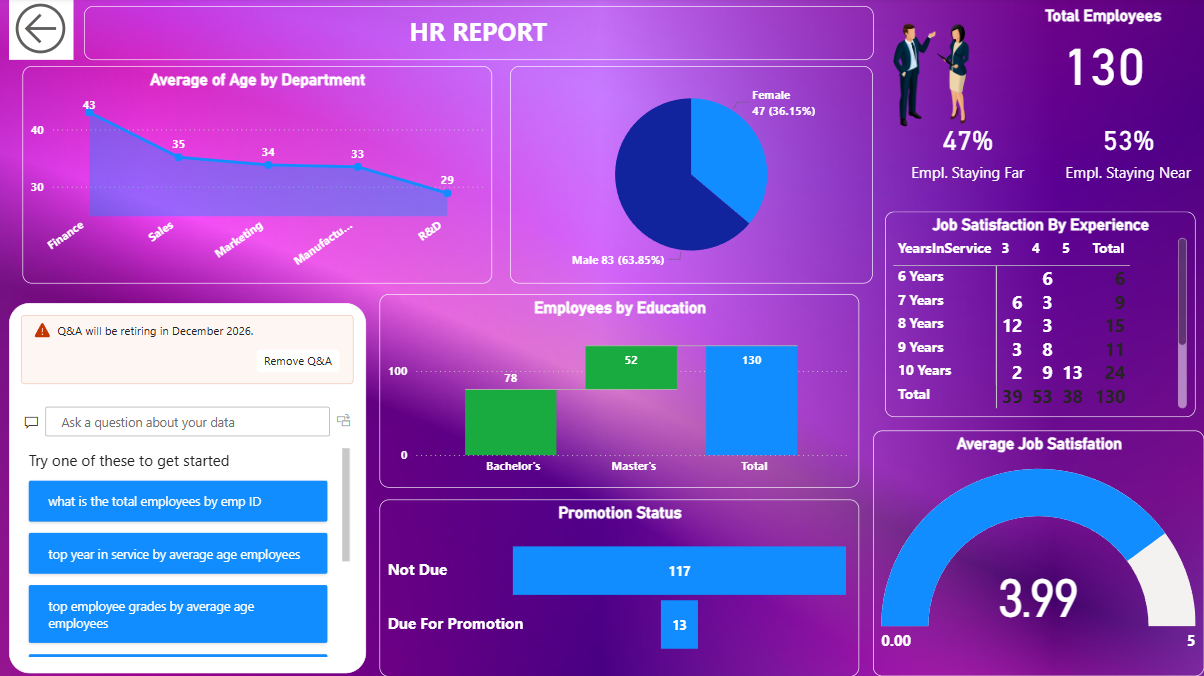

What the dashboard file says about the page in this screenshot:
{"tool":"powerbi","page":{"name":"HR","canvas":[1280,720],"ordinal":1},"visuals":[{"type":"textbox","box":[92,10,837,57],"z":0},{"type":"actionButton","box":[12.7,0,68.4,66.8],"z":1000},{"type":"areaChart","fields":{"Category":["HR.Department"],"Y":["Avg(HR.Age)"]},"box":[27,73.2,497.9,230.6],"z":2000},{"type":"pieChart","fields":{"Series":["HR.Gender"],"Y":["HR.TotalEmployees"]},"box":[544,73.2,384.9,230.6],"z":3000},{"type":"image","box":[928.9,9.5,128.8,146.3],"z":4000},{"type":"card","title":"Total Employees","fields":{"Values":["HR.TotalEmployees"]},"box":[1075.3,9.5,195.6,100.2],"z":5000},{"type":"card","fields":{"Values":["HR.%DistanceFar"]},"box":[951.2,90.7,155.9,146.3],"z":6000},{"type":"card","fields":{"Values":["HR.%DistanceNear"]},"box":[1118.2,90.7,162.2,146.3],"z":7000},{"type":"pivotTable","title":"Job Satisfaction By Experience","fields":{"Rows":["HR.YearsInService"],"Columns":["HR.JobSatisfation"],"Values":["HR.TotalEmployees"]},"box":[941.6,227.5,329.3,217.9],"z":8000},{"type":"gauge","title":"Average Job Satisfation","fields":{"Y":["HR.AverageJobSatisfaction"],"MaxValue":["Max(HR.JobSatisfation)"]},"box":[928.9,459.7,351.5,260.9],"z":9000},{"type":"waterfallChart","title":"Employees by Education","fields":{"Category":["HR.Education"],"Y":["HR.TotalEmployees"]},"box":[405.6,314.9,509,205.2],"z":10000},{"type":"funnel","title":"Promotion Status","fields":{"Category":["HR.PromotionStatus"],"Y":["HR.TotalEmployees"]},"box":[405.6,532.9,509,187.7],"z":11000},{"type":"qnaVisual","box":[12.7,324.5,378.6,392.9],"z":12000}]}

Visuals, with their boxes in screenshot pixels (x1, y1, x2, y2), scaled from the page's 1280x720 canvas onto the 1204x676 screenshot:
textbox: bbox=[87, 9, 874, 63]
actionButton: bbox=[12, 0, 76, 63]
areaChart - HR.Department x Avg(HR.Age): bbox=[25, 69, 494, 285]
pieChart - HR.Gender x HR.TotalEmployees: bbox=[512, 69, 874, 285]
image: bbox=[874, 9, 995, 146]
"Total Employees" card: bbox=[1011, 9, 1195, 103]
card - HR.%DistanceFar: bbox=[895, 85, 1041, 223]
card - HR.%DistanceNear: bbox=[1052, 85, 1203, 223]
"Job Satisfaction By Experience" pivotTable: bbox=[886, 214, 1195, 418]
"Average Job Satisfation" gauge: bbox=[874, 432, 1203, 675]
"Employees by Education" waterfallChart: bbox=[382, 296, 860, 488]
"Promotion Status" funnel: bbox=[382, 500, 860, 675]
qnaVisual: bbox=[12, 305, 368, 674]
